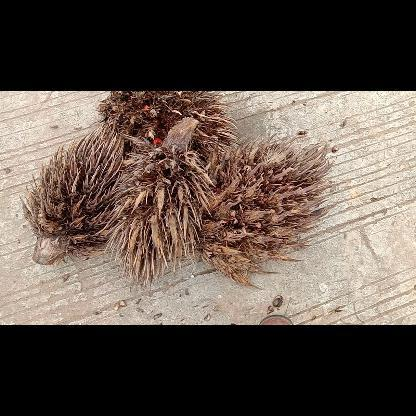Janjang kosong: (194, 134, 334, 288), (102, 118, 216, 288), (19, 124, 123, 262), (98, 90, 240, 162)
